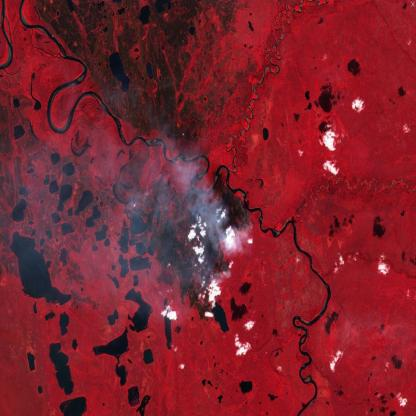fire: (207, 192, 258, 290)
